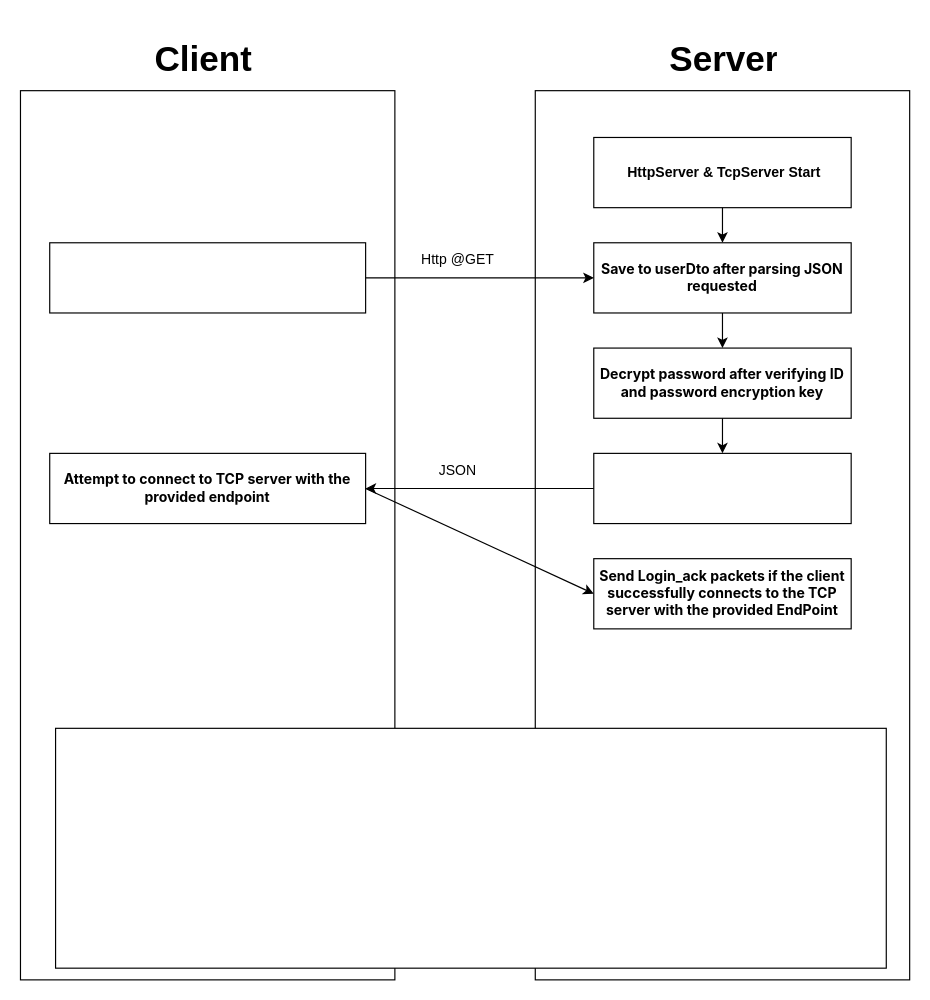
This 930x1000 diagram has some shape labels left out. The centre of each missing label's shape, as x and y in pixels:
Request Endpoint for TCP connect use JSON (id, password, encryptKey): the point at 207,277
ServerInfo (host,port) is delivered to json if verification is successful: the point at 722,488
To be implemented: the point at 470,847
